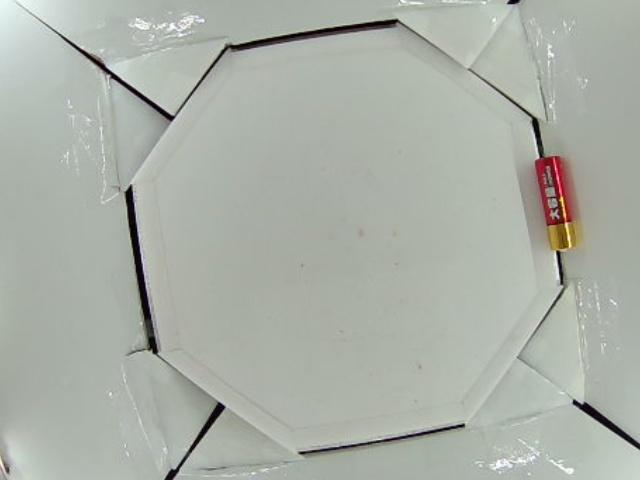Battery: (536, 154, 575, 252)
